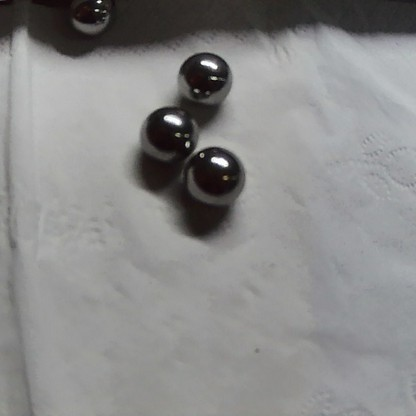ironball: (121, 93, 197, 160), (171, 44, 233, 106), (187, 143, 243, 205), (45, 0, 128, 37)
